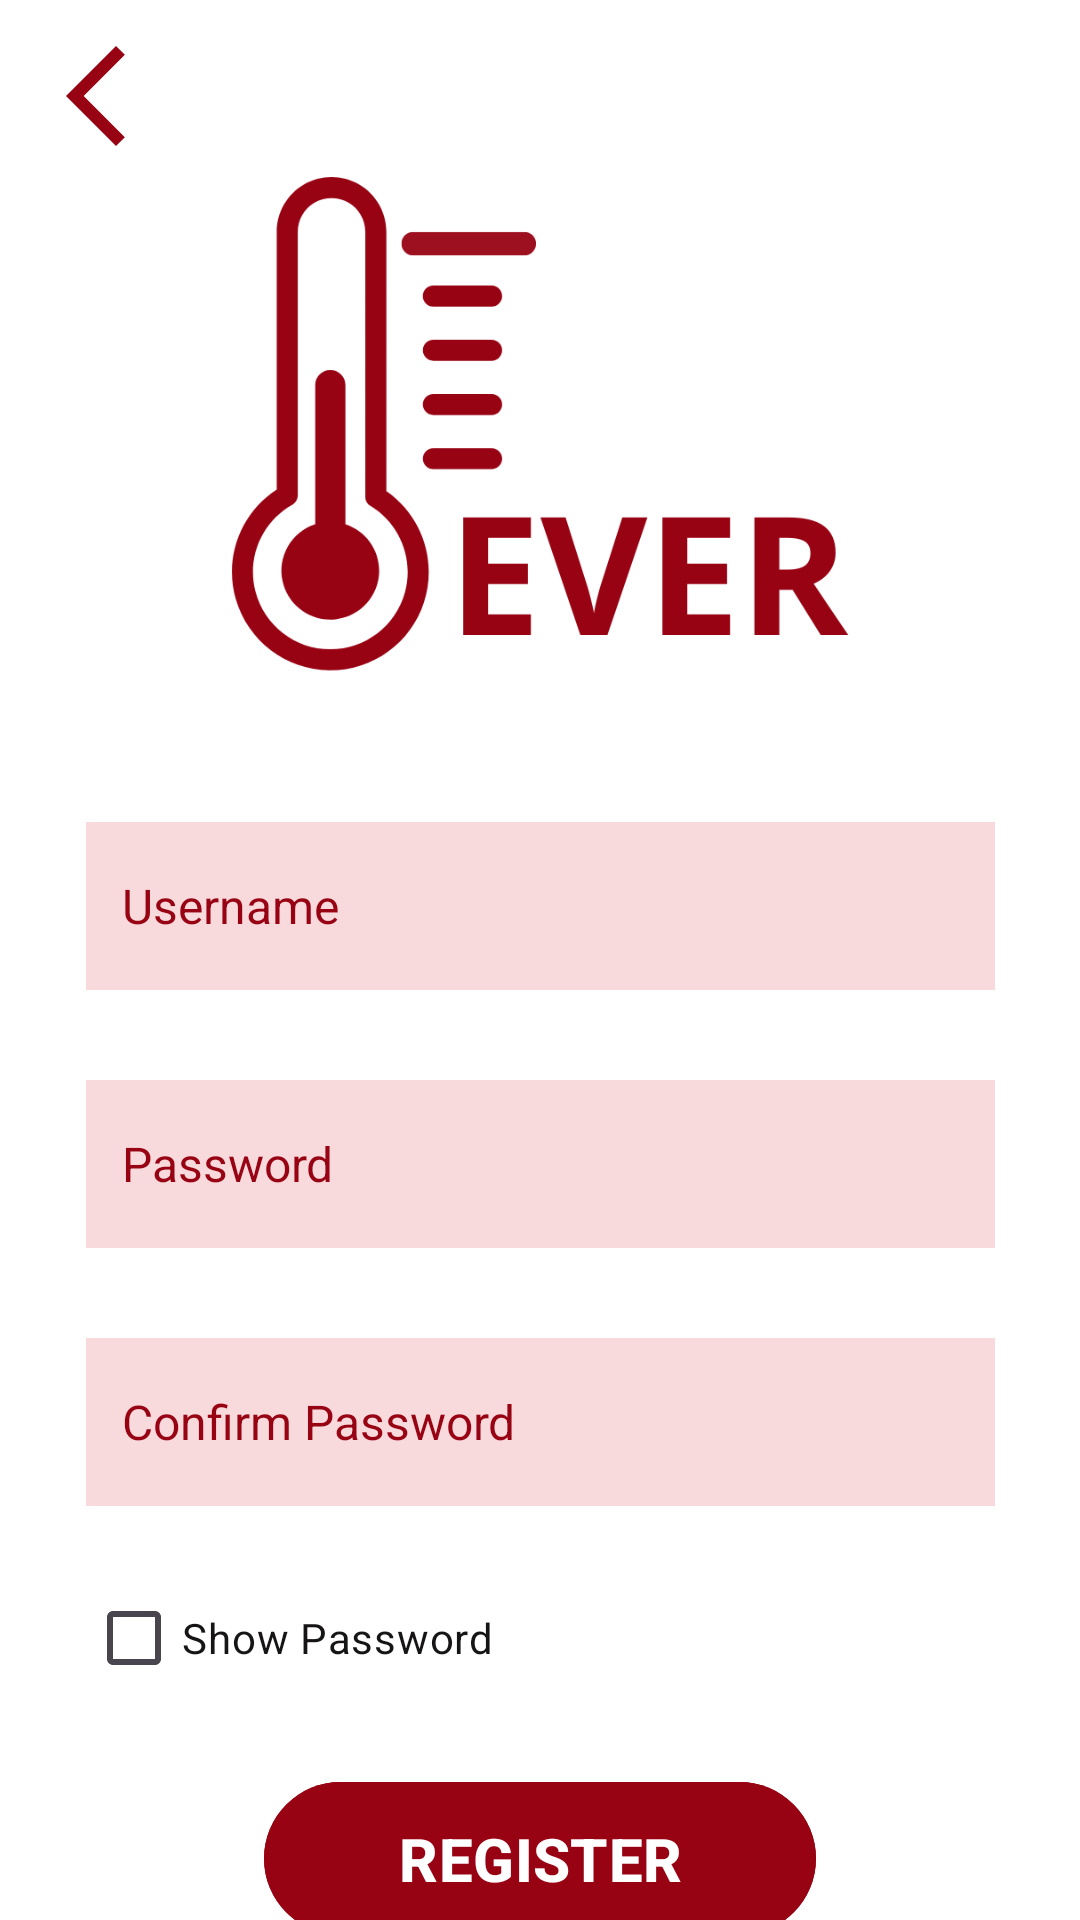

Icon bounding boxes for this 1080px×1920px phone screenshot, format [x1,y1,x2,y2]:
arrow back: [66,46,125,146]
